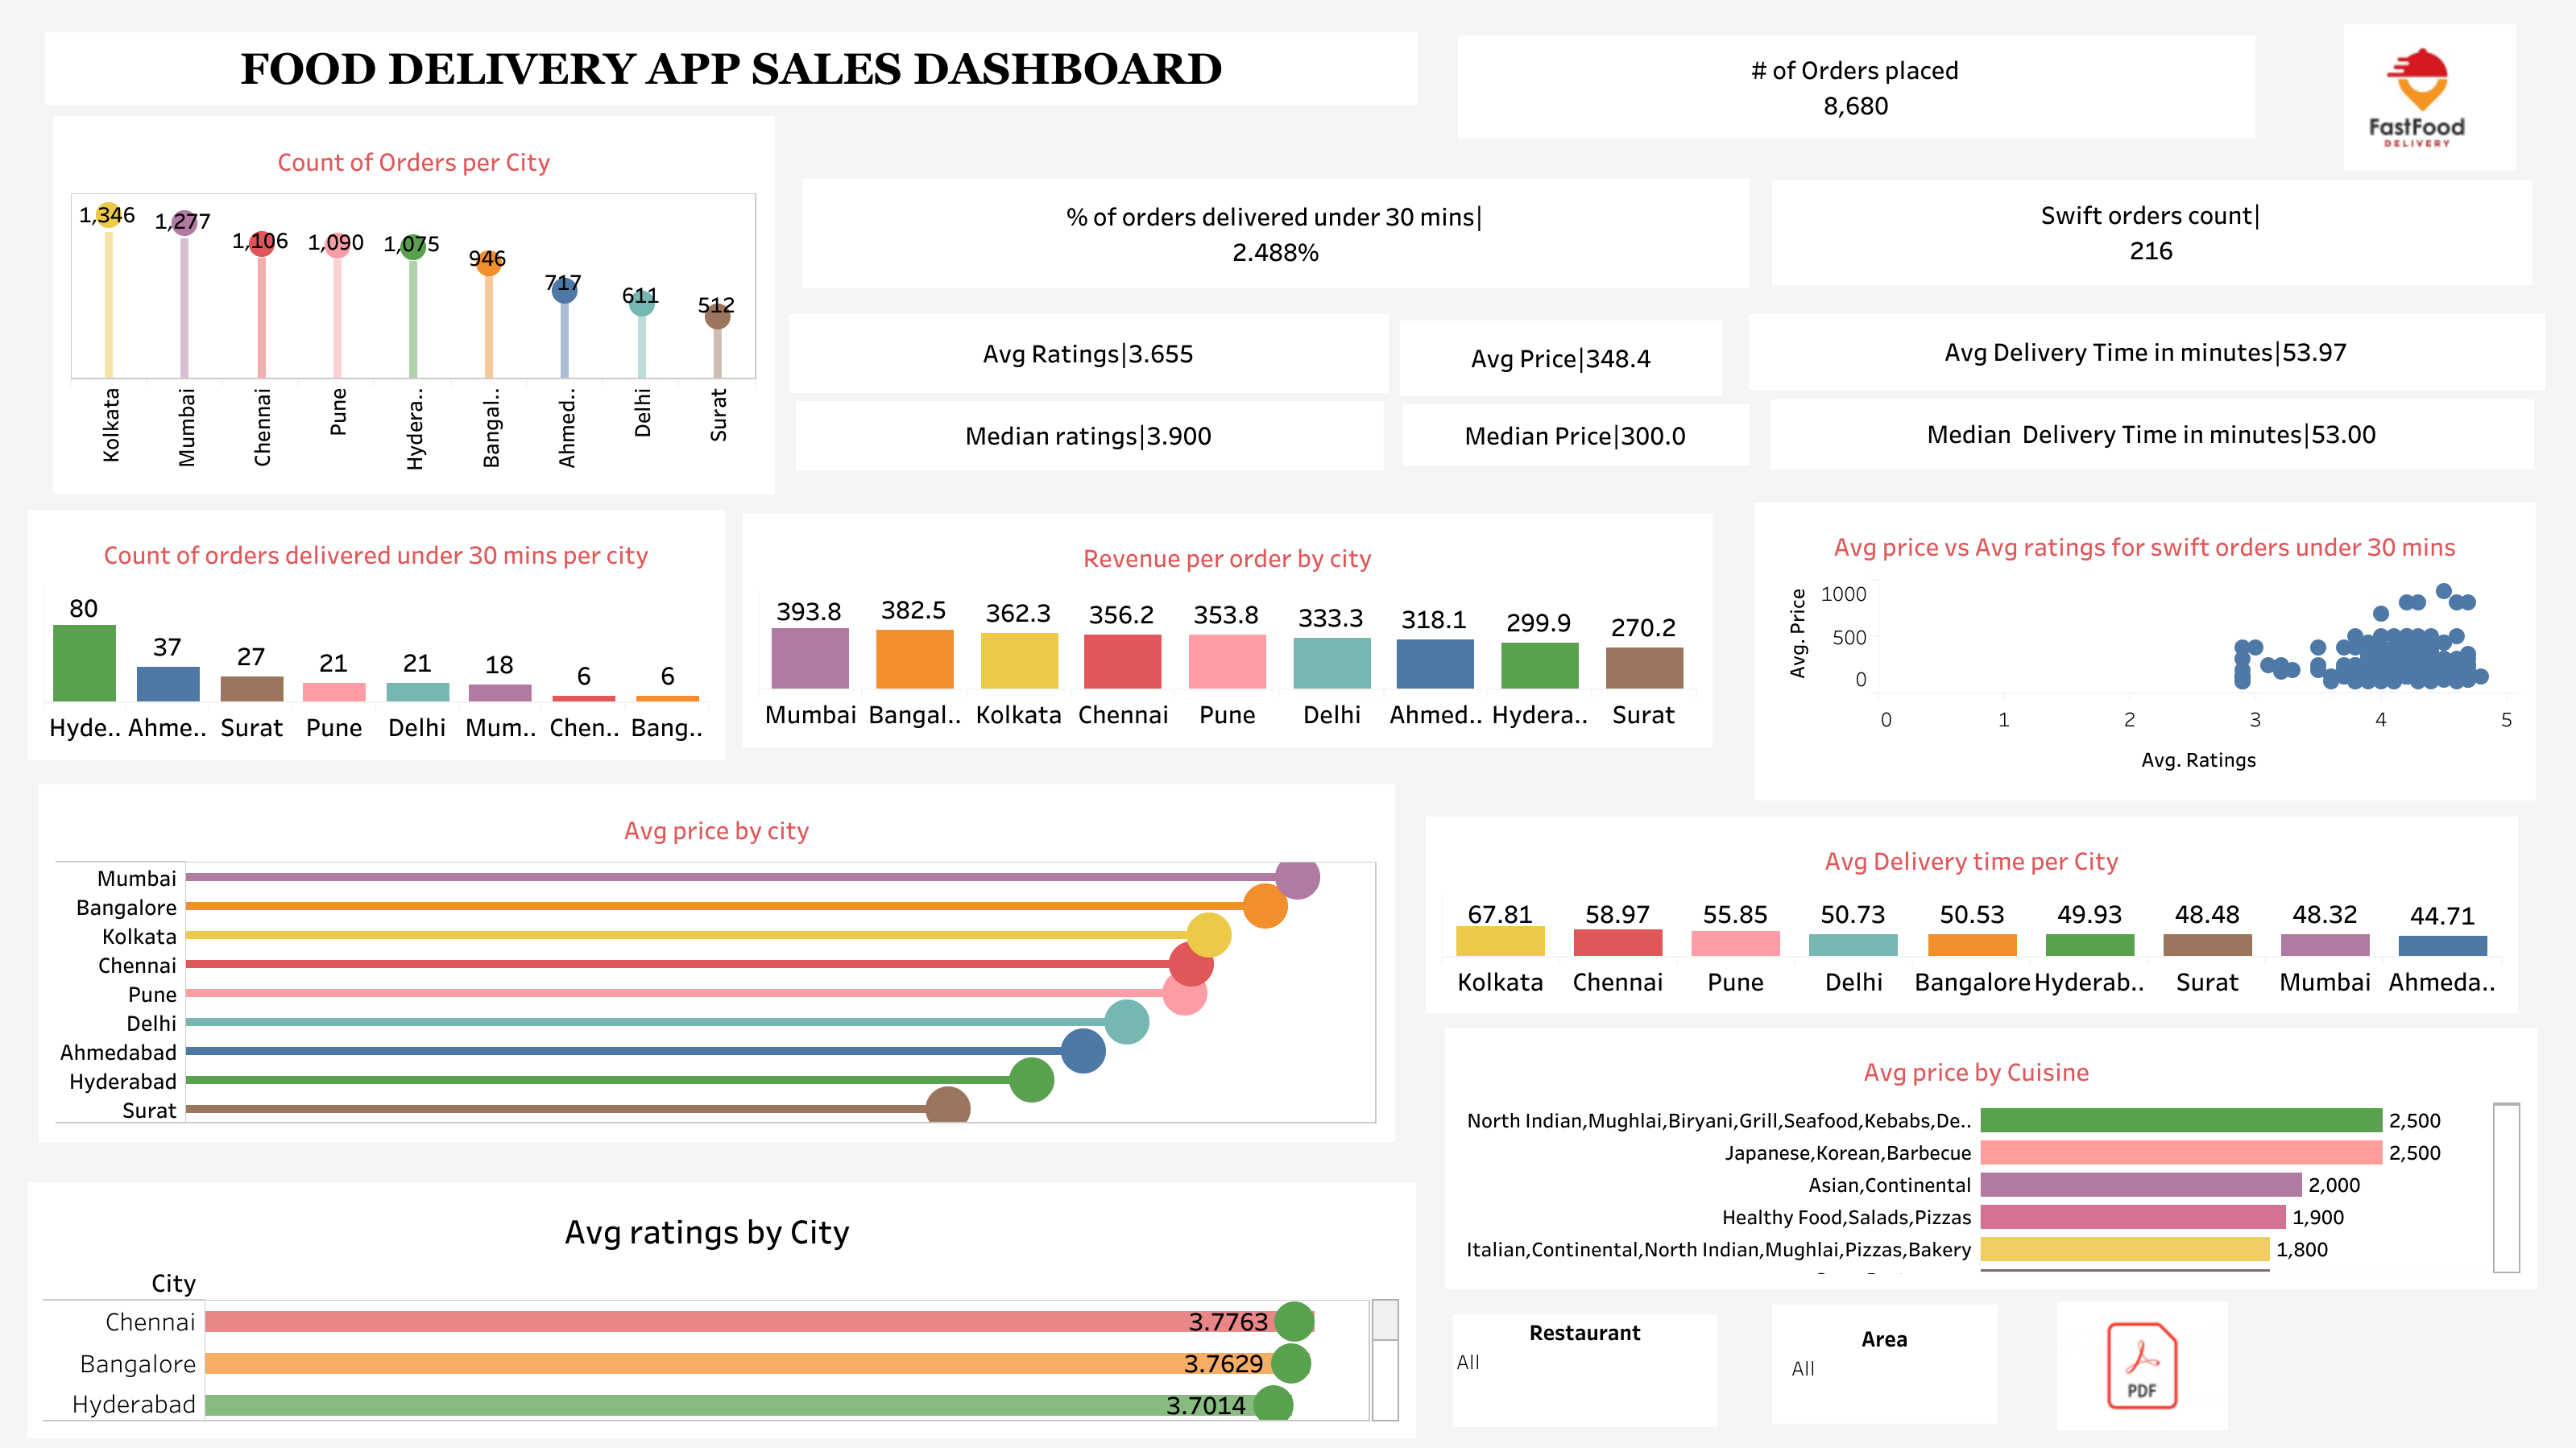

Layout of this report page (visuals, bound fields, positions):
{"tool":"tableau","page":{"name":"Dashboard 1","canvas":[1600,900],"ordinal":0},"visuals":[{"type":"image","box":[8,8,1584,884]},{"type":"text","box":[18,10,872,65]},{"type":"worksheet","title":"Count of orders","mark":"Automatic","box":[895,12,515,84]},{"type":"image","param":"Image/logo5.jpg","box":[1455,15,107,91]},{"type":"image","box":[60,60,468,234]},{"type":"worksheet","title":"Count of orders by City","mark":"Circle","rows":["ID","ID"],"cols":["City"],"box":[23,62,468,255]},{"type":"worksheet","title":"% of orders delivered under 30 mins (2)","mark":"Automatic","box":[488,101,608,88]},{"type":"worksheet","title":"Swift orders count","mark":"Automatic","box":[1090,102,492,85]},{"type":"worksheet","title":"Avg Delivery time","mark":"Automatic","box":[1076,185,514,67]},{"type":"worksheet","title":"Avg Price","mark":"Automatic","box":[859,189,220,67]},{"type":"worksheet","title":"Avg Ratings","mark":"Automatic","box":[490,195,372,49]},{"type":"worksheet","title":"Median delivery time","mark":"Automatic","box":[1089,238,494,63]},{"type":"worksheet","title":"Median ratings","mark":"Automatic","box":[484,239,385,63]},{"type":"worksheet","title":"Median price","mark":"Automatic","box":[861,241,235,58]},{"type":"worksheet","title":"Swift orders analysis","mark":"Circle","rows":["Price"],"cols":["Ratings"],"box":[1079,302,505,205]},{"type":"worksheet","title":"Delivery efficiency per city","mark":"Automatic","rows":["ID (copy)_2198460308518858889"],"cols":["City"],"box":[7,307,453,175]},{"type":"worksheet","title":"Revenue per order by city","mark":"Automatic","rows":["Calculation_15129329628532853"],"cols":["City"],"box":[451,309,622,165]},{"type":"worksheet","title":"Avg price by city","mark":"Bar","rows":["City"],"cols":["Price","Price"],"box":[14,477,862,242]},{"type":"worksheet","title":"Avg Delivery time by City","mark":"Automatic","rows":["Delivery time"],"cols":["City"],"box":[875,497,698,142]},{"type":"worksheet","title":"Avg price by Cuisine","mark":"Automatic","rows":["Food type"],"cols":["Price"],"box":[887,628,698,182]},{"type":"worksheet","title":"Avg ratings by City","mark":"Automatic","rows":["City"],"cols":["Ratings","Ratings"],"box":[7,724,882,179]},{"type":"filter","title":"Avg Delivery time","param":"[federated.1pyx0l80xxtzwg1384pip0o37spe].[none:Area:nk]","box":[1090,800,160,94]},{"type":"filter","title":"Avg Delivery time","param":"[federated.1pyx0l80xxtzwg1384pip0o37spe].[none:Restaurant:nk]","box":[892,806,184,90]},{"type":"dashboard-object","box":[1236,808,188,80]}]}

Visuals, with their boxes in screenshot pixels (x1, y1, x2, y2), scaled from the page's 1600x900 canvas onto the 2576x1448 screenshot:
image: {"left": 13, "top": 13, "right": 2563, "bottom": 1435}
text: {"left": 29, "top": 16, "right": 1433, "bottom": 121}
"Count of orders" worksheet: {"left": 1441, "top": 19, "right": 2270, "bottom": 155}
image: {"left": 2342, "top": 24, "right": 2515, "bottom": 171}
image: {"left": 97, "top": 97, "right": 850, "bottom": 473}
"Count of orders by City" worksheet (Circle marks): {"left": 37, "top": 100, "right": 790, "bottom": 510}
"% of orders delivered under 30 mins (2)" worksheet: {"left": 785, "top": 163, "right": 1765, "bottom": 304}
"Swift orders count" worksheet: {"left": 1755, "top": 164, "right": 2547, "bottom": 301}
"Avg Delivery time" worksheet: {"left": 1733, "top": 298, "right": 2560, "bottom": 405}
"Avg Price" worksheet: {"left": 1383, "top": 304, "right": 1737, "bottom": 412}
"Avg Ratings" worksheet: {"left": 789, "top": 314, "right": 1388, "bottom": 392}
"Median delivery time" worksheet: {"left": 1754, "top": 383, "right": 2549, "bottom": 484}
"Median ratings" worksheet: {"left": 779, "top": 384, "right": 1399, "bottom": 486}
"Median price" worksheet: {"left": 1386, "top": 387, "right": 1765, "bottom": 481}
"Swift orders analysis" worksheet (Circle marks): {"left": 1737, "top": 486, "right": 2550, "bottom": 816}
"Delivery efficiency per city" worksheet: {"left": 11, "top": 494, "right": 740, "bottom": 776}
"Revenue per order by city" worksheet: {"left": 726, "top": 497, "right": 1728, "bottom": 763}
"Avg price by city" worksheet (Bar marks): {"left": 23, "top": 767, "right": 1410, "bottom": 1156}
"Avg Delivery time by City" worksheet: {"left": 1409, "top": 800, "right": 2533, "bottom": 1028}
"Avg price by Cuisine" worksheet: {"left": 1428, "top": 1011, "right": 2552, "bottom": 1303}
"Avg ratings by City" worksheet: {"left": 11, "top": 1165, "right": 1431, "bottom": 1447}
"Avg Delivery time" filter: {"left": 1755, "top": 1287, "right": 2012, "bottom": 1438}
"Avg Delivery time" filter: {"left": 1436, "top": 1297, "right": 1733, "bottom": 1442}
dashboard-object: {"left": 1990, "top": 1300, "right": 2292, "bottom": 1429}
